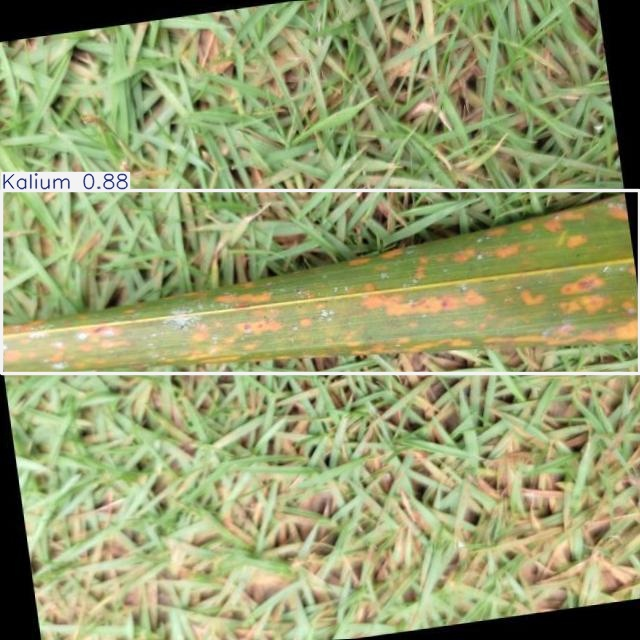Kalium: (2, 191, 639, 373)
